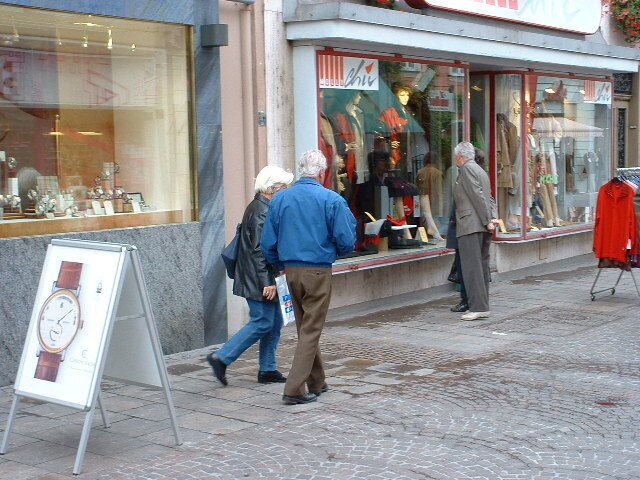person: (270, 148, 361, 408), (203, 156, 291, 385), (441, 138, 504, 324)
